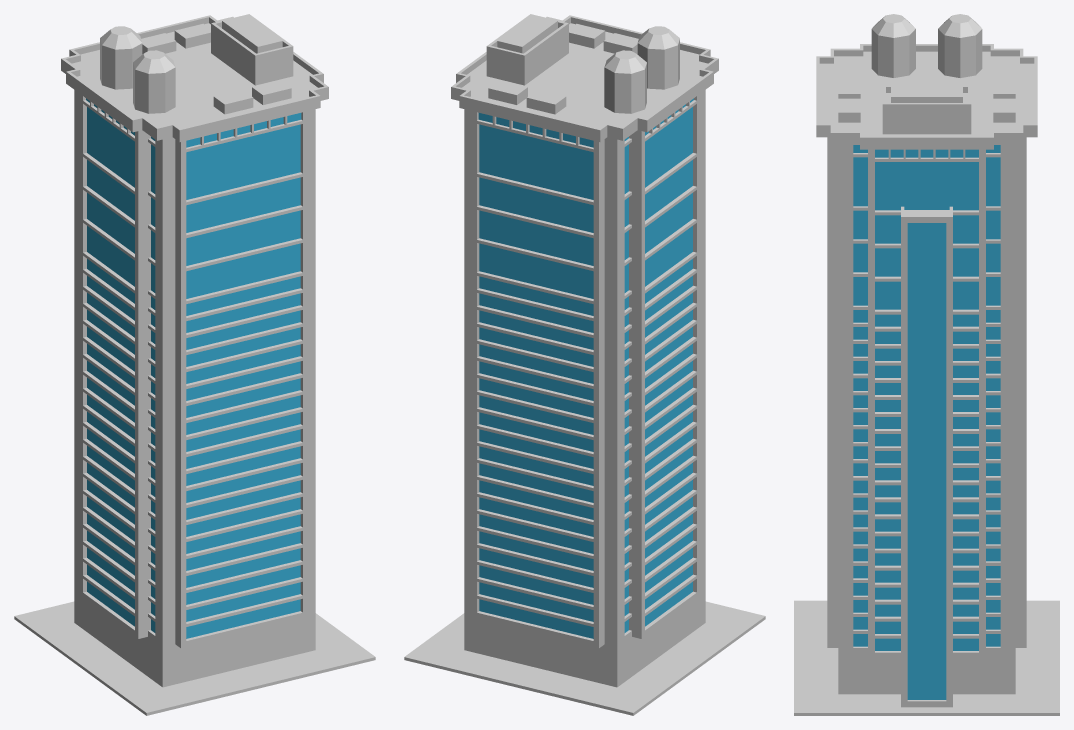
Rendered from Chroma Skyscraper D.fbx.
3 views of the same model, side by side, from view 1: azimuth 30°, elevation 25°; view 2: azimuth 150°, elevation 25°; view 3: azimuth 270°, elevation 25° (orthographic).
Parts seen in each view (by area): view 1: Skyscraper Blocks, Skyscraper Blocks.002, Skyscraper Blocks.001, Skyscraper Ground Floor, Plane; view 2: Skyscraper Blocks, Skyscraper Blocks.002, Skyscraper Blocks.001, Skyscraper Ground Floor, Plane; view 3: Skyscraper Blocks, Skyscraper Blocks.002, Skyscraper Ground Floor.001, Skyscraper Blocks.001, Plane, Skyscraper Ground Floor.
Boxes of the visible parts, x1,y1,x2,y2 form: Skyscraper Blocks: (74,237,315,625); Skyscraper Blocks.002: (61,14,328,203); Skyscraper Blocks.001: (74,138,315,302); Skyscraper Ground Floor: (74,560,315,687); Plane: (14,601,375,715); Skyscraper Blocks: (464,237,705,625); Skyscraper Blocks.002: (451,14,718,203); Skyscraper Blocks.001: (464,138,705,302); Skyscraper Ground Floor: (464,560,705,687); Plane: (404,601,765,715); Skyscraper Blocks: (827,300,1026,635); Skyscraper Blocks.002: (816,14,1037,212); Skyscraper Ground Floor.001: (901,206,952,707); Skyscraper Blocks.001: (827,201,1026,311); Plane: (794,600,1059,715); Skyscraper Ground Floor: (827,624,1026,694).
Bounding box in the file's own units: 1200 × 3055 × 1200.
